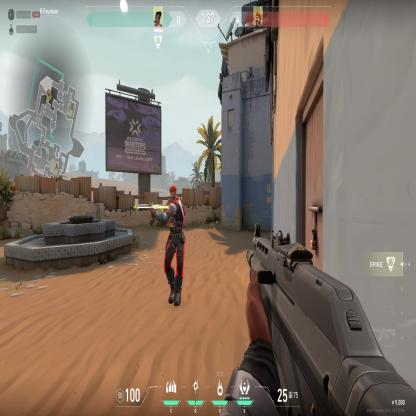enemy: (162, 186, 186, 310)
